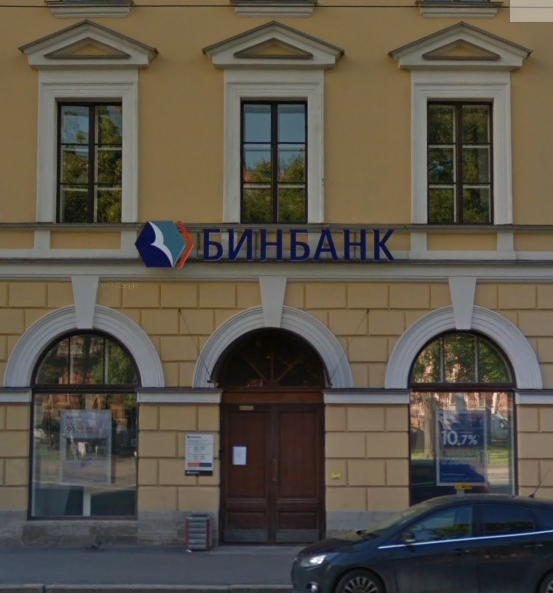door: (220, 389, 319, 551)
signboard: (131, 212, 400, 276)
window: (30, 386, 136, 516), (409, 386, 514, 498), (56, 95, 122, 222), (428, 98, 494, 223), (244, 95, 307, 223)
